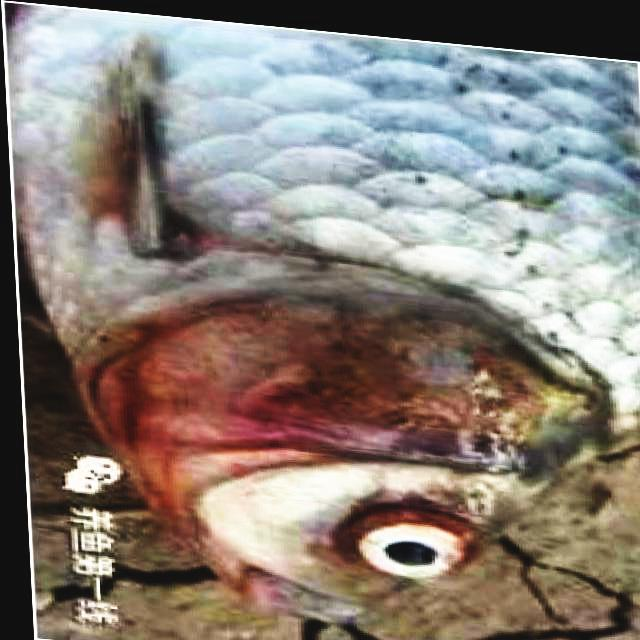Columnaris Disease: (6, 0, 639, 620)
